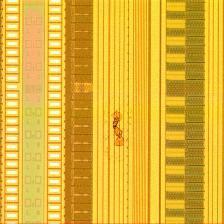PARTICLE: (99, 110, 139, 150)
